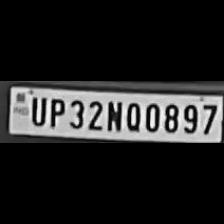0: (142, 100, 160, 132)
2: (84, 97, 104, 130)
3: (65, 96, 84, 130)
7: (198, 100, 218, 134)
8: (160, 100, 180, 134)
9: (178, 100, 198, 134)
N: (104, 98, 122, 132)
P: (44, 95, 64, 127)
Q: (122, 100, 142, 132)
U: (27, 94, 46, 126)
